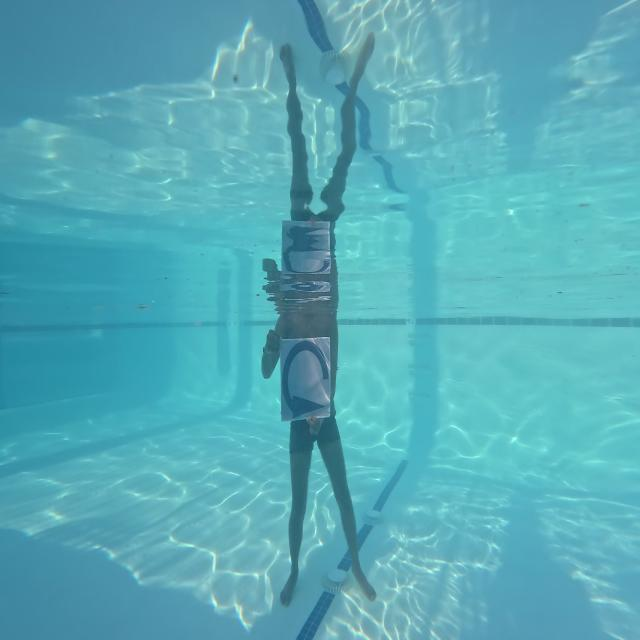blue_side: (280, 335, 336, 424)
